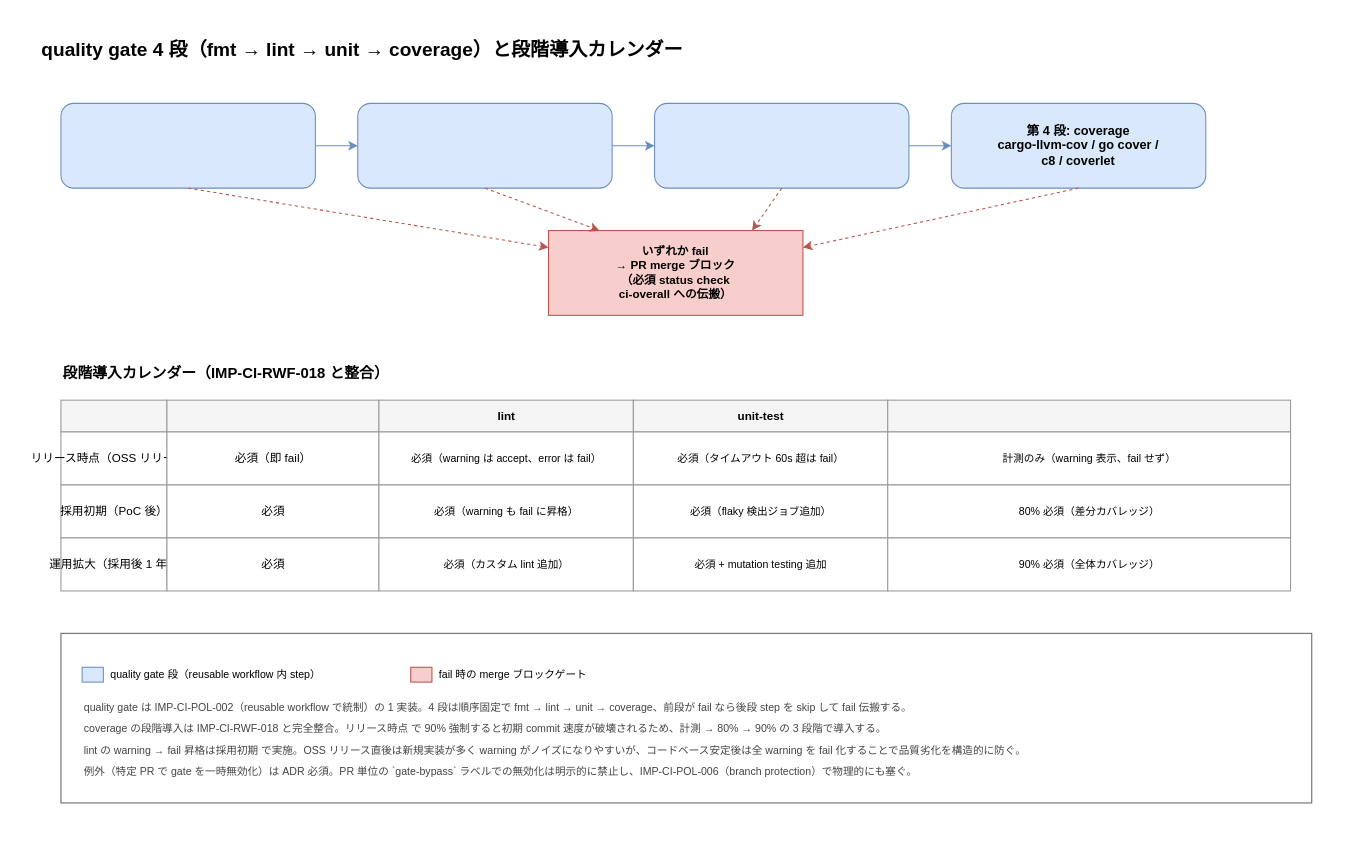
This 1350x863 diagram has some shape labels left out. Each missing label, with the box of its shape:
coverage 閾値: (887, 399, 1291, 432)
fmt: (166, 399, 379, 432)
凡例 / 設計ノート: (60, 632, 1312, 803)
段階: (60, 399, 167, 432)
第 1 段: fmt rustfmt / gofmt / prettier / dotnet format: (60, 102, 315, 188)
第 2 段: lint clippy / golangci-lint / eslint / Roslyn analyzer: (357, 102, 612, 188)
第 3 段: unit-test cargo nextest / go test / vitest / dotnet test: (653, 102, 909, 188)
